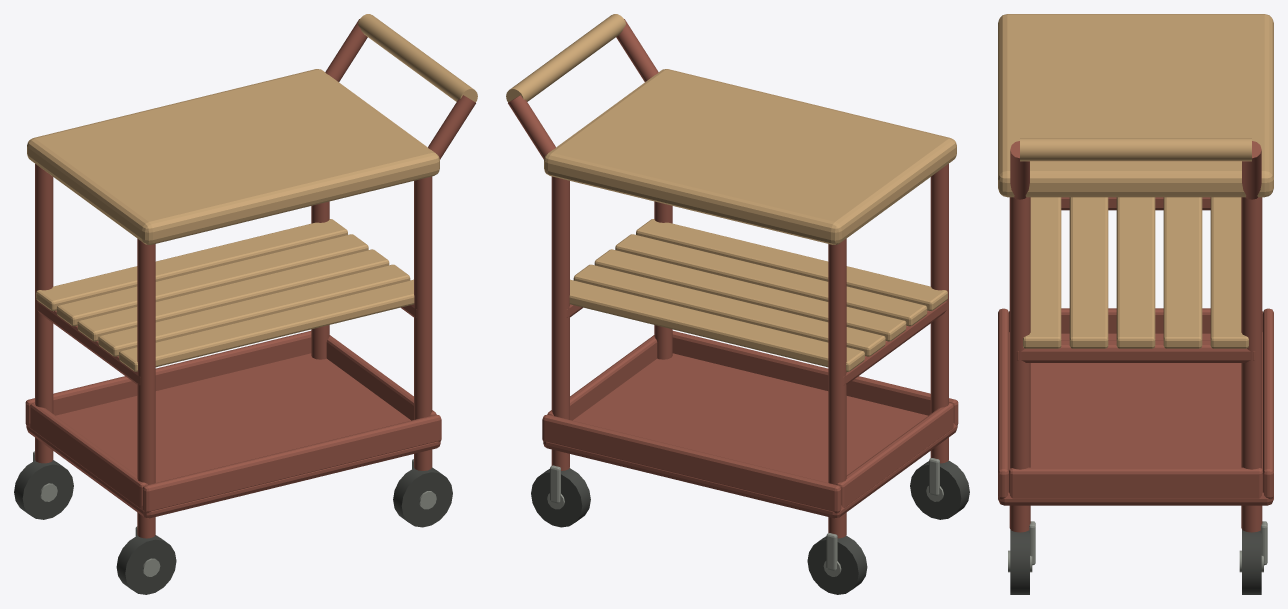
The model's file is storage-cart.glb.
3 views of the same model, side by side, from view 1: azimuth 30°, elevation 25°; view 2: azimuth 150°, elevation 25°; view 3: azimuth 270°, elevation 25° (orthographic). The views are drawn at different scales.
Visible parts, largest first — view 1: storage-cart; view 2: storage-cart; view 3: storage-cart.
Boxes of the visible parts, <box> form: storage-cart: <box>14,14,477,594</box>; storage-cart: <box>506,14,969,594</box>; storage-cart: <box>998,14,1273,594</box>.
Size of the model in its own units: 0.76 by 0.86 by 0.45.
